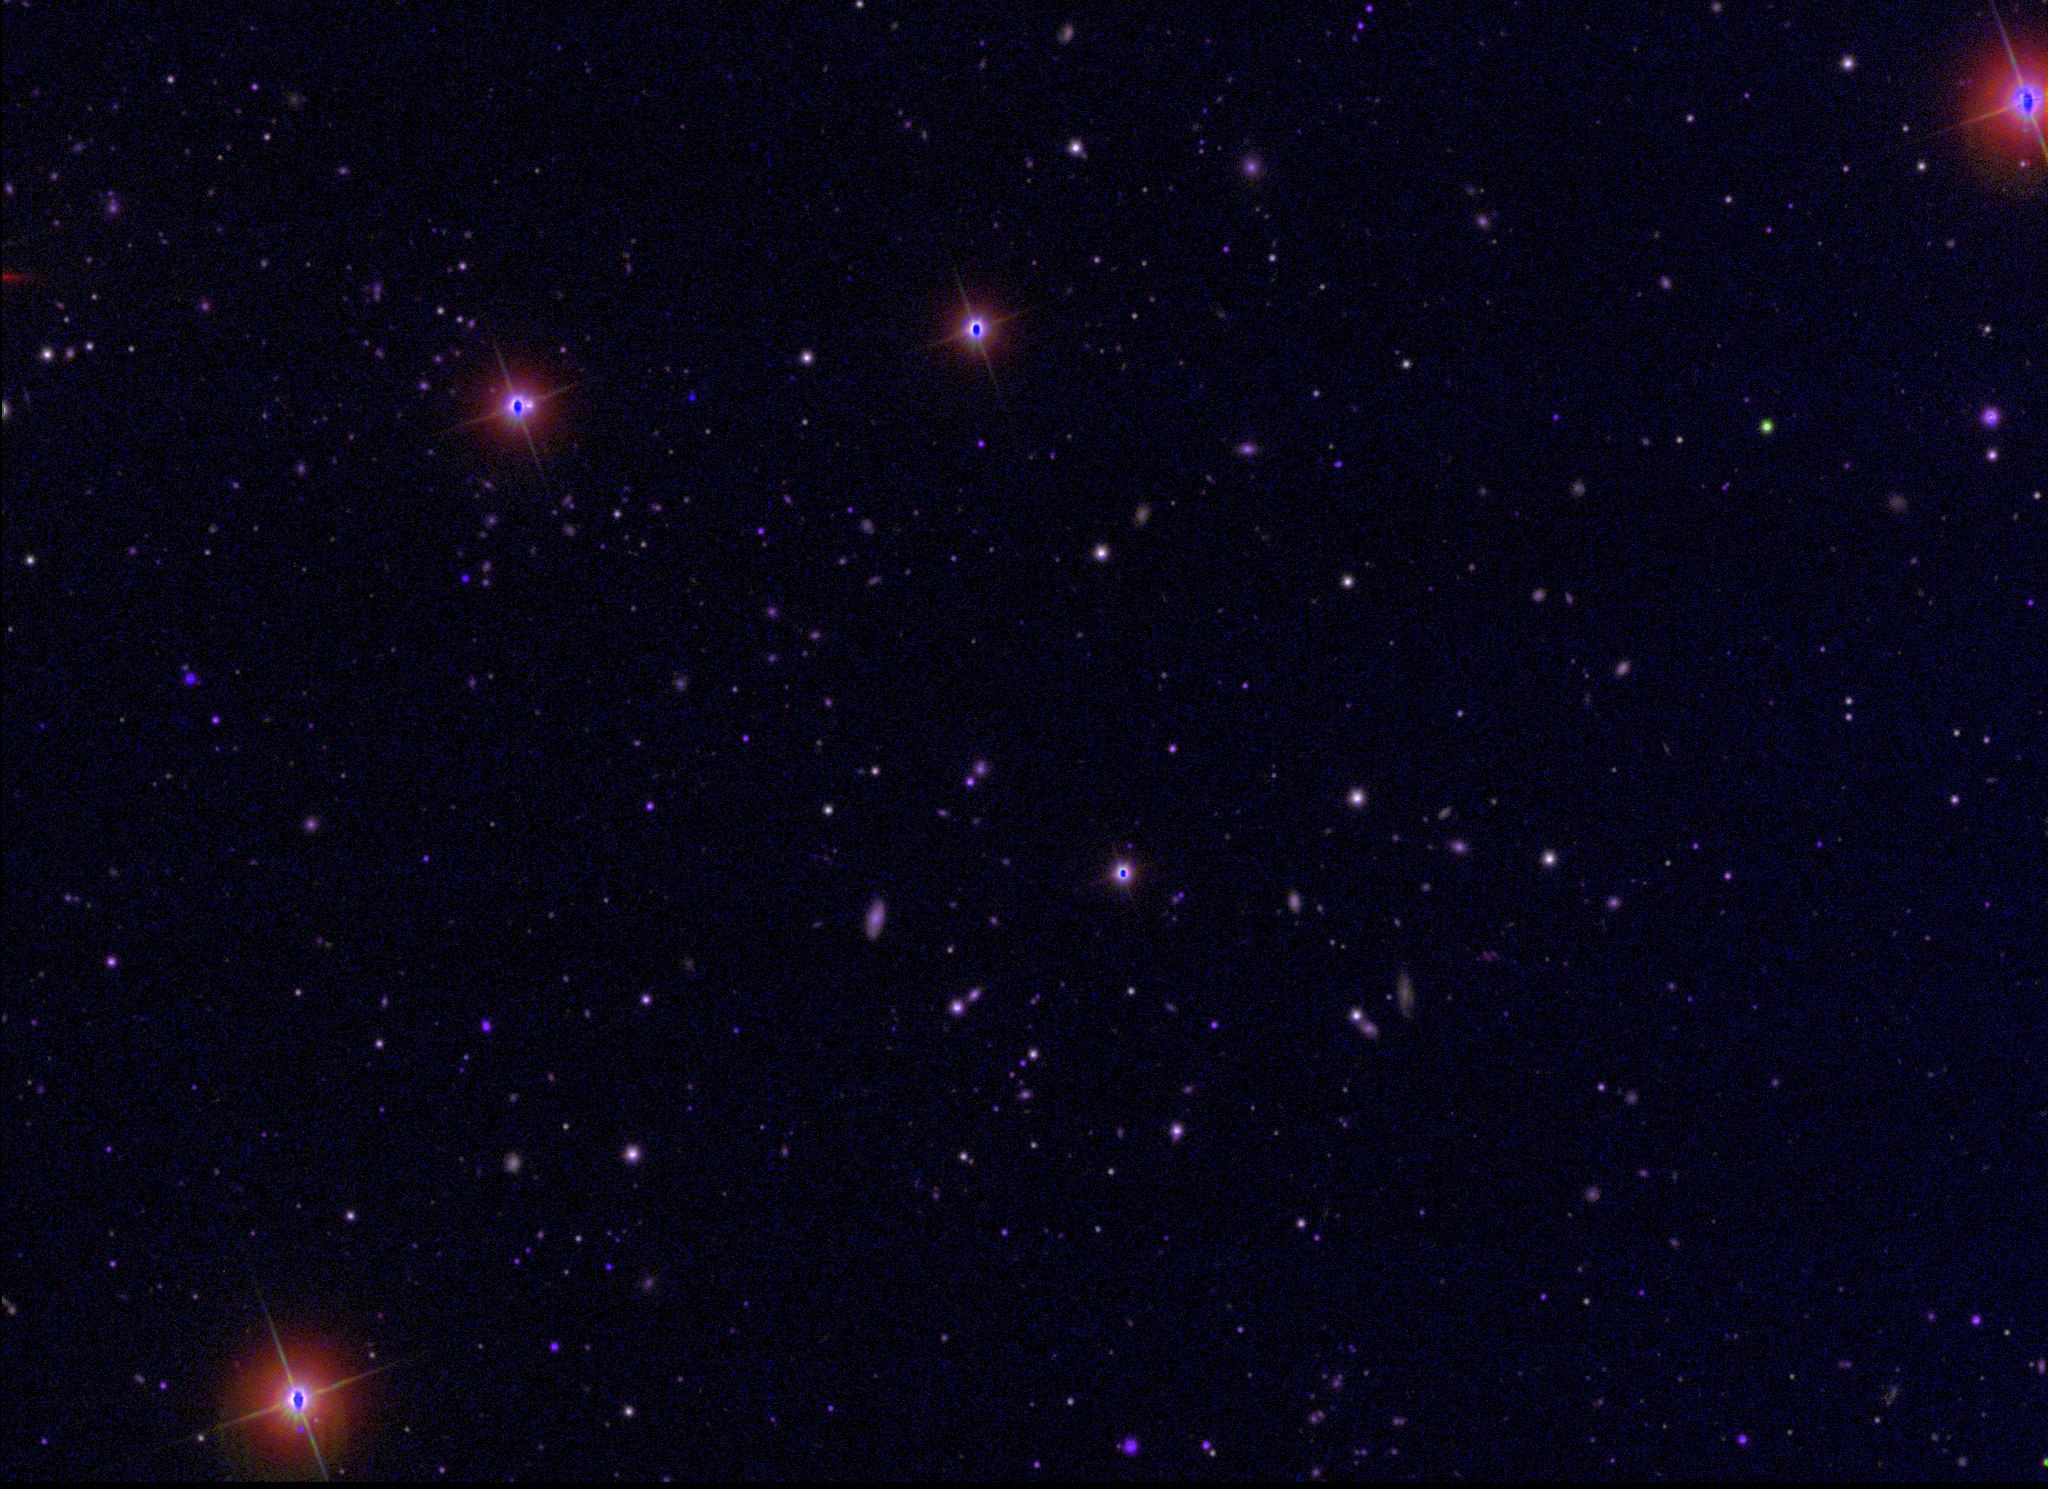L: (684, 387, 696, 399)
